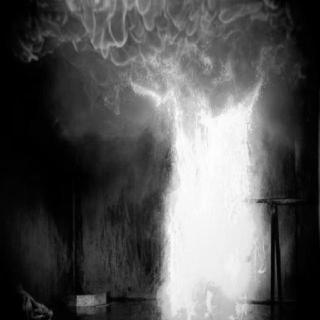Fire: (127, 54, 269, 316)
